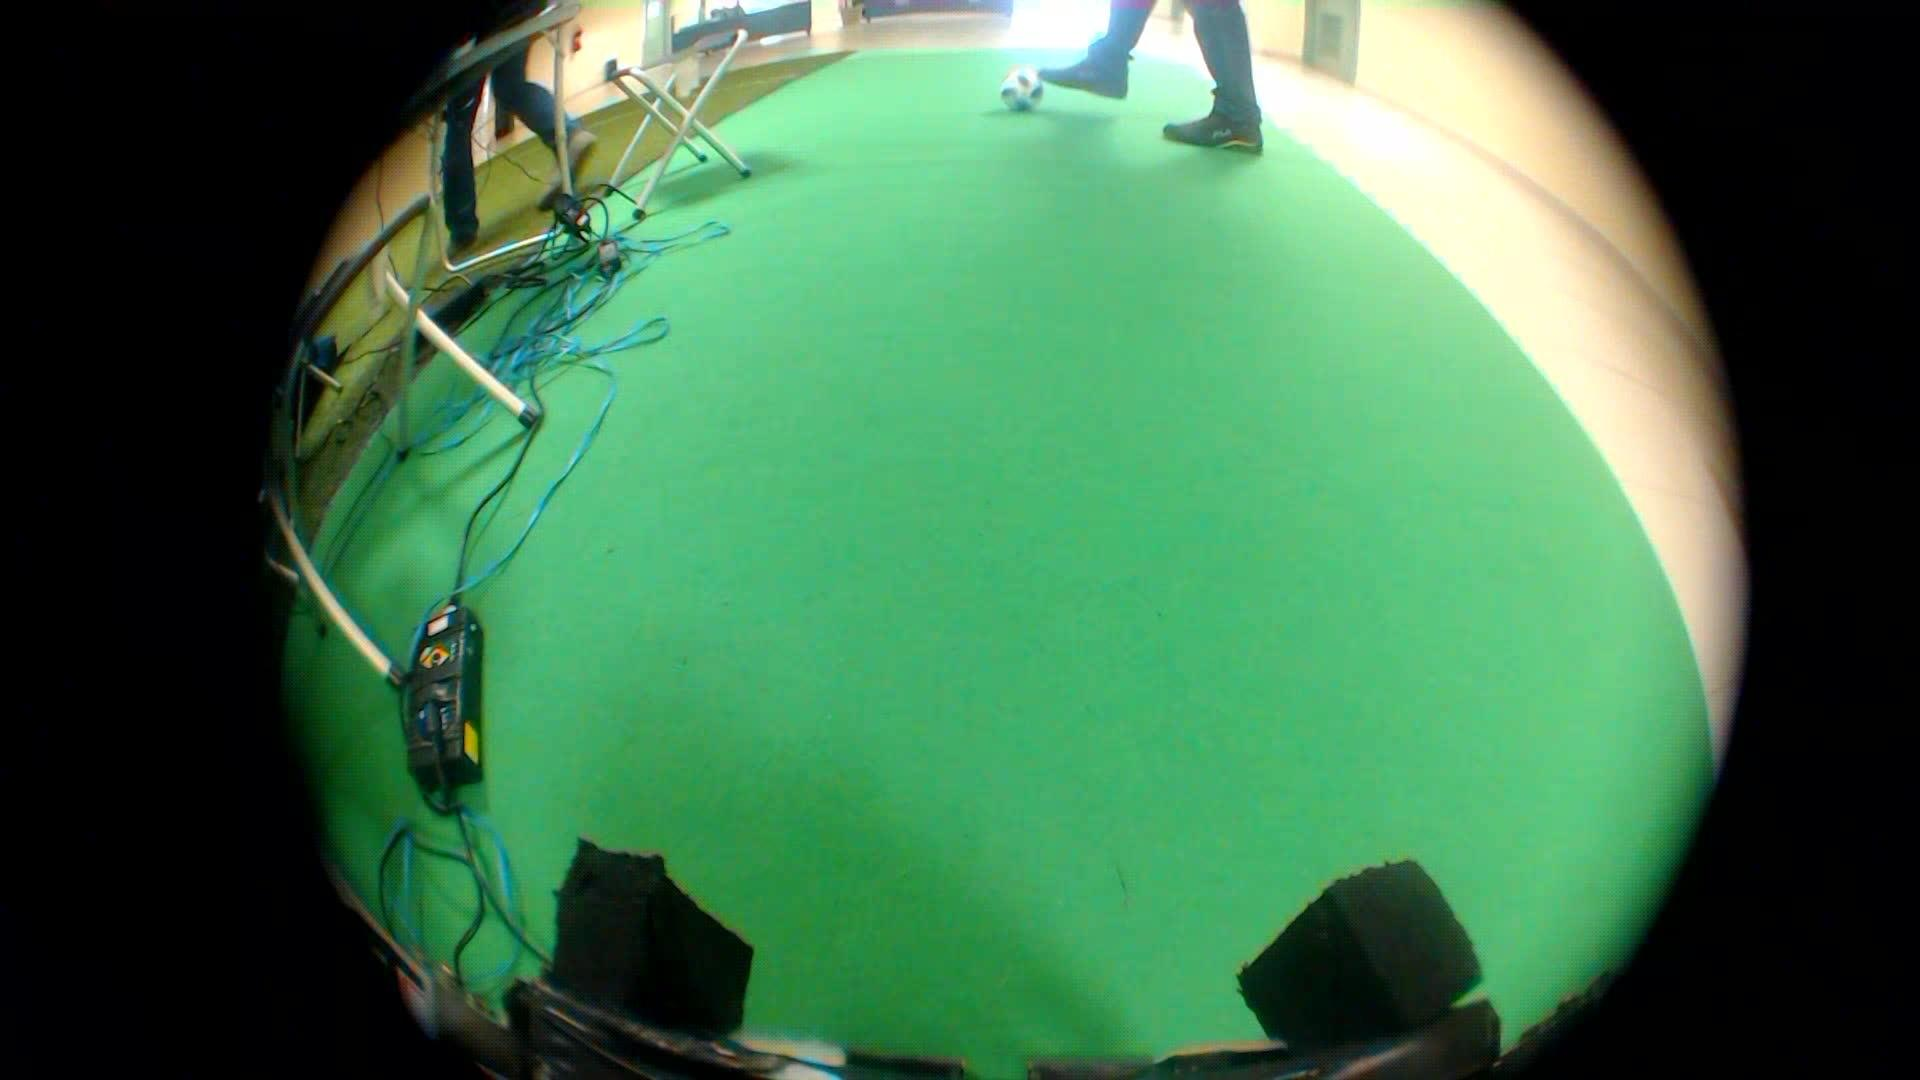ball: (993, 61, 1048, 121)
